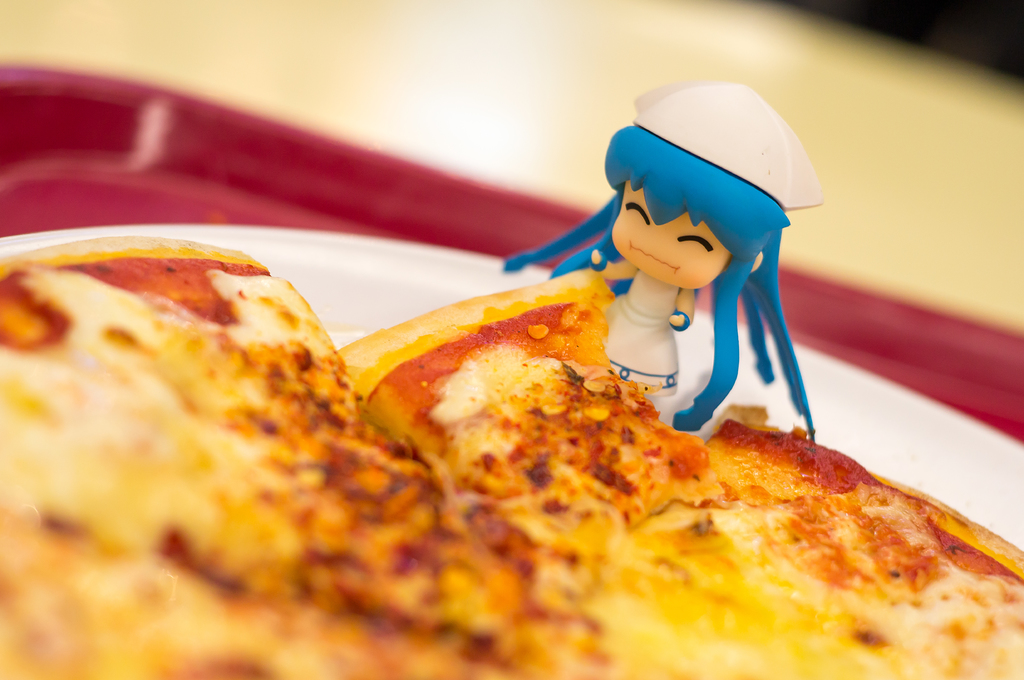pizza: (0, 230, 1023, 675)
